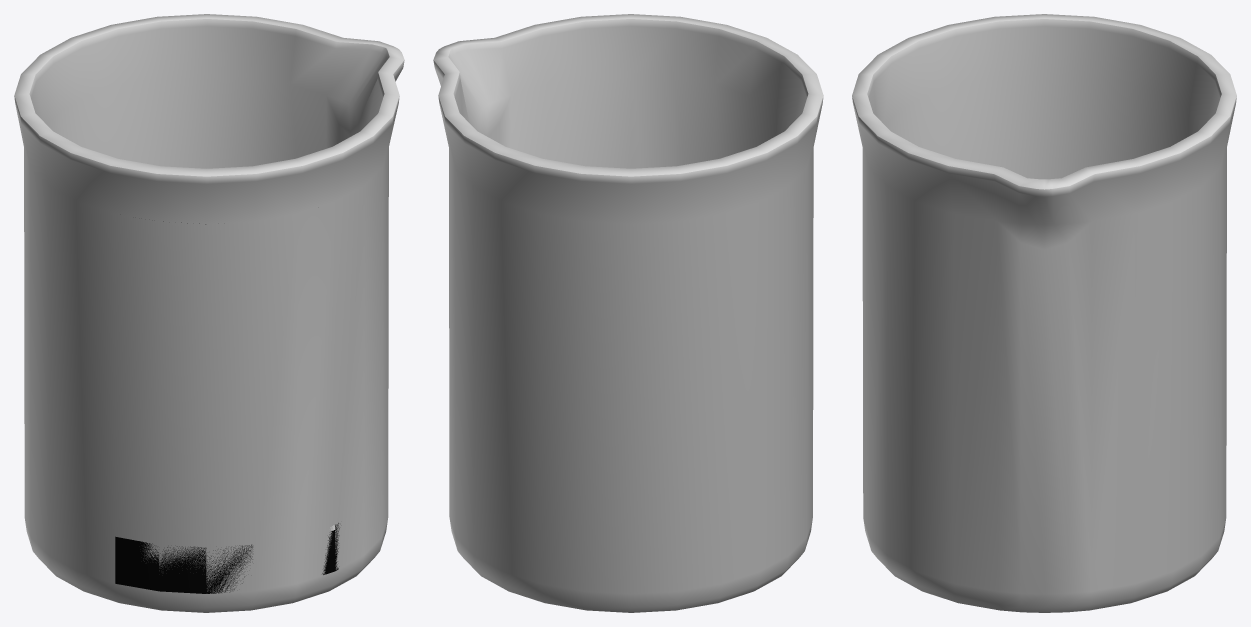
File: Beaker(500ml).fbx
The picture shows the model from 3 angles, left to right: view 1: azimuth 30°, elevation 25°; view 2: azimuth 150°, elevation 25°; view 3: azimuth 270°, elevation 25°; orthographic projection.
Visible parts, largest first — view 1: Beaker(500ml), BeakerNumber(500ml); view 2: Beaker(500ml); view 3: Beaker(500ml).
Part boxes in pixels (x1,y1,x2,y2): Beaker(500ml): (14, 14, 404, 612); BeakerNumber(500ml): (115, 221, 339, 593); Beaker(500ml): (433, 14, 823, 612); Beaker(500ml): (852, 14, 1236, 612).
Bounding box in the file's own units: 10.22 × 12.2 × 9.5.
